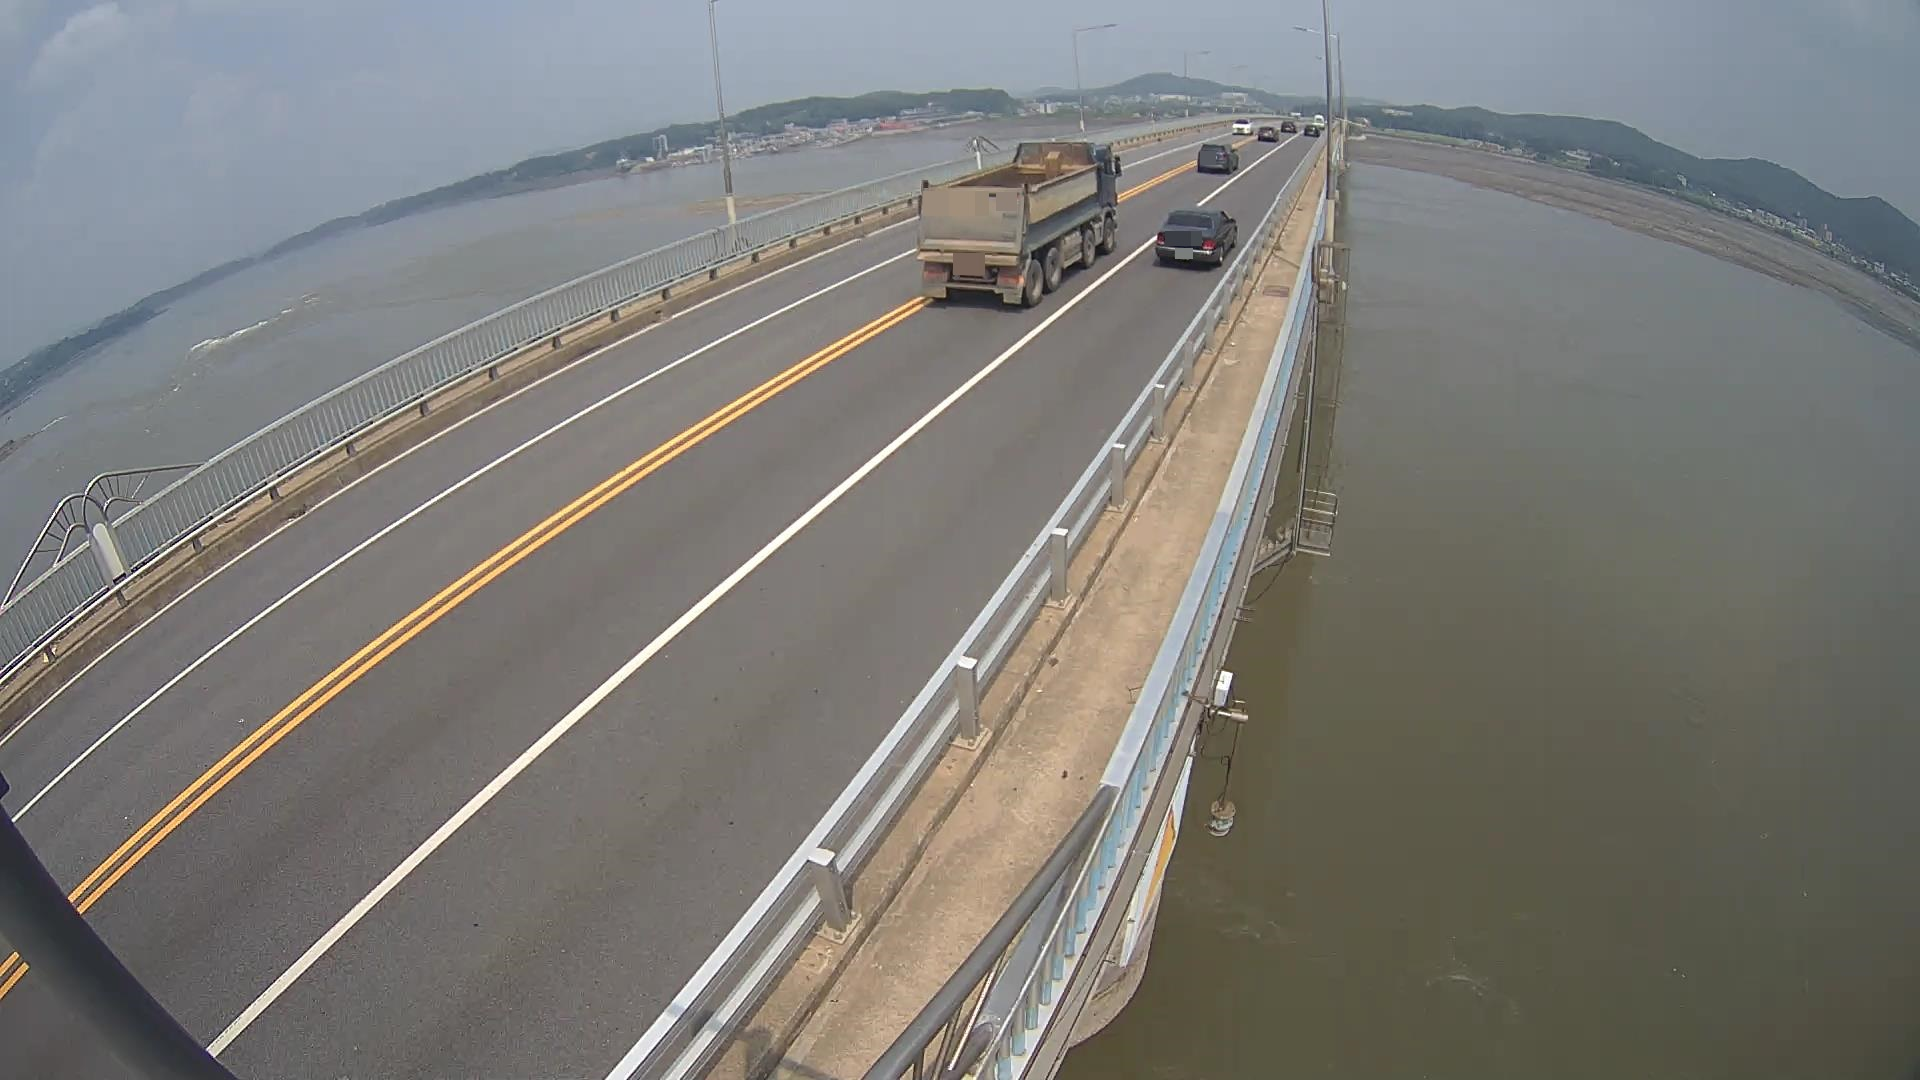정상차량: (916, 141, 1121, 306)
